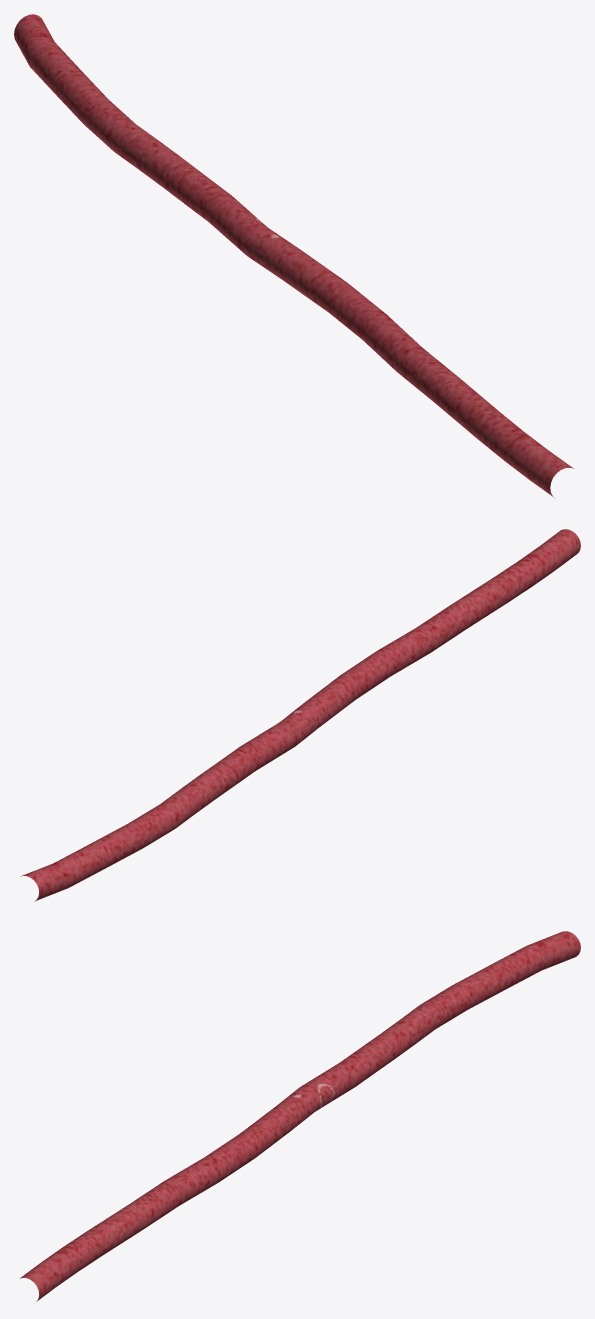
The model's file is Vena_Cava.glb.
3 views of the same model, one above another, from view 1: azimuth 30°, elevation 25°; view 2: azimuth 150°, elevation 25°; view 3: azimuth 330°, elevation 25° (orthographic). The views are drawn at different scales.
Visible parts, largest first — view 1: vena_cava; view 2: vena_cava; view 3: vena_cava.
Boxes of the visible parts, x1=… form: vena_cava: x1=14, y1=14, x2=573, y2=497; vena_cava: x1=20, y1=529, x2=580, y2=901; vena_cava: x1=20, y1=931, x2=580, y2=1301.
Size of the model in its own units: 12.52 by 4.11 by 139.
Materials: 1 (1 with a texture image).
